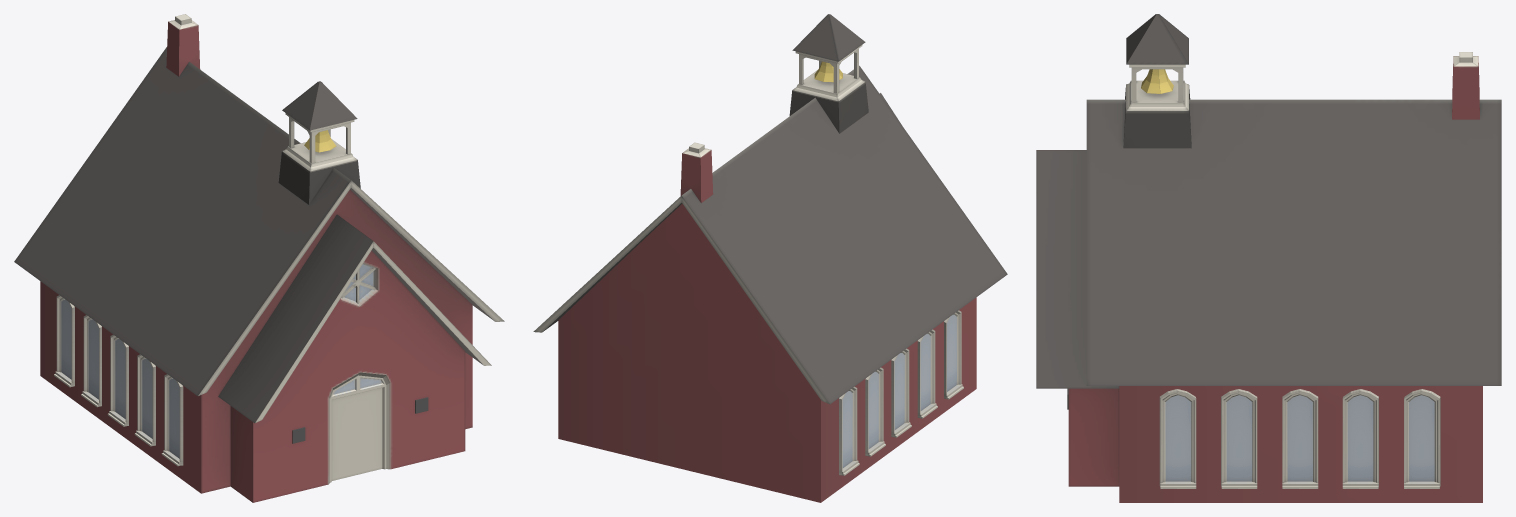
Rendered from builtEnv-schoolHouse-02.glb.
3 renders of one model, left to right at view 1: azimuth 30°, elevation 25°; view 2: azimuth 150°, elevation 25°; view 3: azimuth 270°, elevation 25°, orthographic. The views are drawn at different scales.
Parts seen in each view (by area): view 1: node-0; view 2: node-0; view 3: node-0.
Part boxes in pixels (box(x1,y1,x2,y2)): node-0: box(14, 14, 504, 502); node-0: box(533, 14, 1007, 502); node-0: box(1036, 14, 1501, 502).
Size of the model in its own units: 13.18 by 15.02 by 15.31.
1 material, 1 textured.
